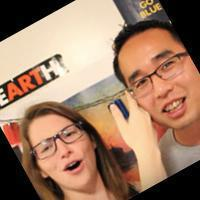Drunk: (117, 41, 193, 125), (31, 118, 92, 188)
